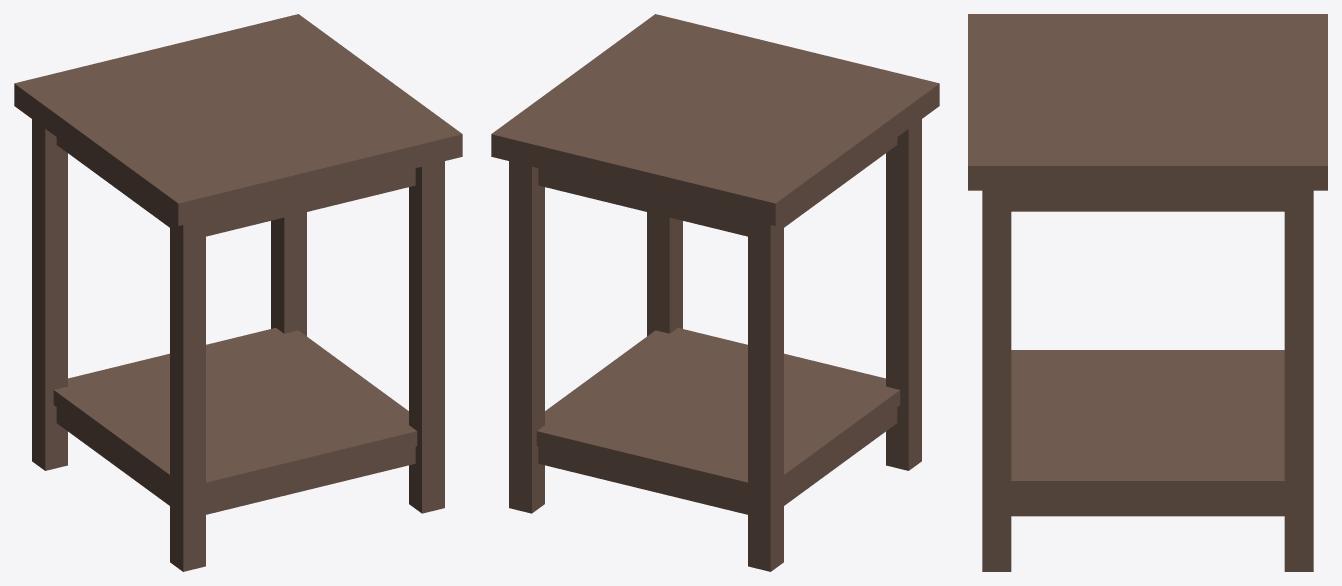
3 views of the same model, side by side, from view 1: azimuth 30°, elevation 25°; view 2: azimuth 150°, elevation 25°; view 3: azimuth 270°, elevation 25° (orthographic). The views are drawn at different scales.
Visible parts, largest first — view 1: 1 top, 3 shelf, 5 leg_fl, 6 leg_fr, 7 leg_bl, 4 shelf_apron, 2 apron, 8 leg_br; view 2: 1 top, 3 shelf, 7 leg_bl, 8 leg_br, 5 leg_fl, 4 shelf_apron, 2 apron, 6 leg_fr; view 3: 1 top, 3 shelf, 6 leg_fr, 8 leg_br, 2 apron, 4 shelf_apron.
Part boxes in pixels (x1,y1,x2,y2): 1 top: (14, 14, 462, 225); 3 shelf: (53, 328, 417, 497); 5 leg_fl: (170, 219, 205, 571); 6 leg_fr: (409, 161, 444, 513); 7 leg_bl: (32, 119, 67, 470); 4 shelf_apron: (56, 407, 415, 514); 2 apron: (56, 137, 415, 236); 8 leg_br: (271, 212, 306, 336); 1 top: (491, 14, 939, 225); 3 shelf: (536, 328, 900, 497); 7 leg_bl: (748, 219, 783, 571); 8 leg_br: (509, 161, 544, 513); 5 leg_fl: (886, 119, 921, 470); 4 shelf_apron: (538, 407, 897, 514); 2 apron: (538, 137, 897, 236); 6 leg_fr: (647, 212, 682, 336); 1 top: (968, 14, 1327, 190); 3 shelf: (1011, 350, 1284, 497); 6 leg_fr: (982, 190, 1011, 571); 8 leg_br: (1284, 190, 1313, 571); 2 apron: (1011, 190, 1284, 211); 4 shelf_apron: (1011, 497, 1284, 516).
Bounding box in the file's own units: 0.4826 × 0.6096 × 0.4826.
